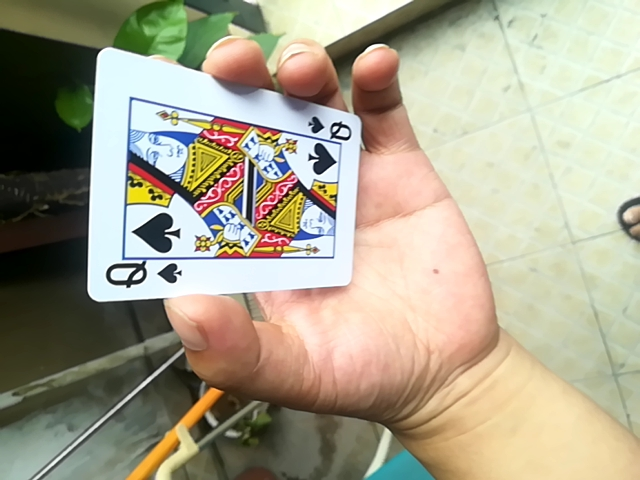ht q: (80, 50, 361, 299)
